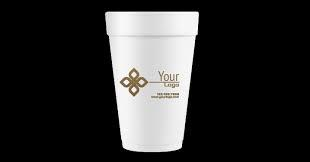Plastic cup: (96, 4, 205, 160)
